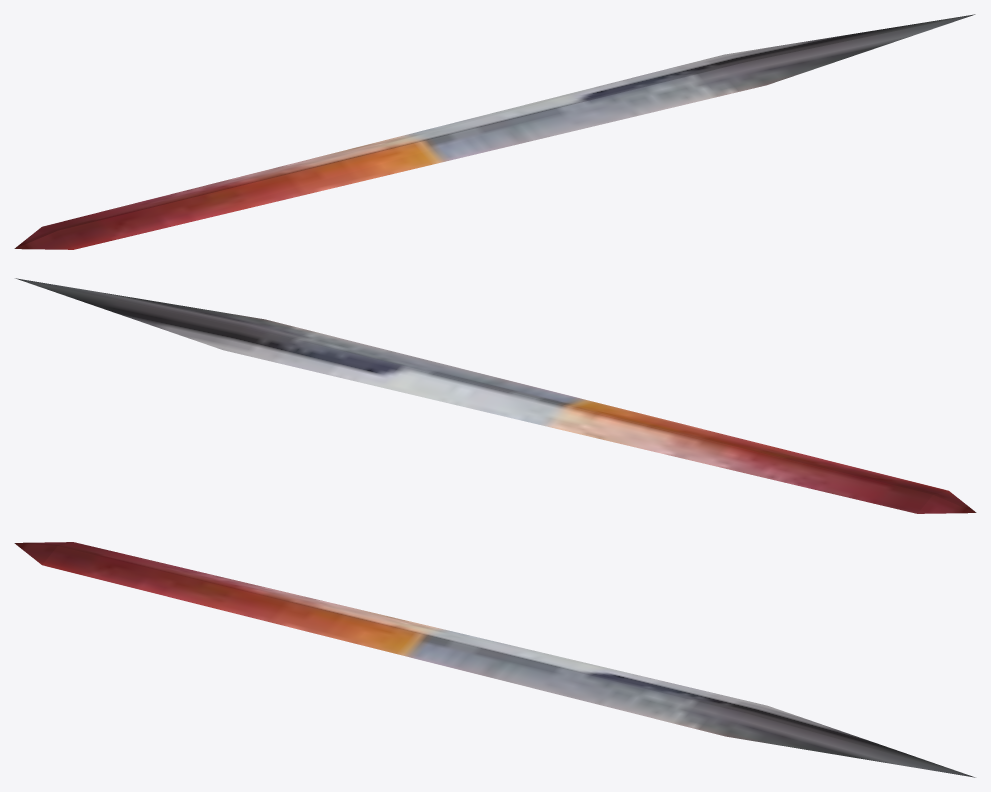
File: UFORMOWANE_STALOWE_OSTRZE.glb
3 views of the same model, one above another, from view 1: azimuth 30°, elevation 25°; view 2: azimuth 150°, elevation 25°; view 3: azimuth 330°, elevation 25° (orthographic).
Parts seen in each view (by area): view 1: UFORMOWANE_STALOWE_OSTRZE; view 2: UFORMOWANE_STALOWE_OSTRZE; view 3: UFORMOWANE_STALOWE_OSTRZE.
Boxes of the visible parts, bbox=[...] form: UFORMOWANE_STALOWE_OSTRZE: bbox=[14, 14, 975, 249]; UFORMOWANE_STALOWE_OSTRZE: bbox=[15, 278, 976, 513]; UFORMOWANE_STALOWE_OSTRZE: bbox=[14, 542, 975, 777].
Bounding box in the file's own units: 1.05 × 0.016 × 0.08.
Materials: 1 (1 with a texture image).
